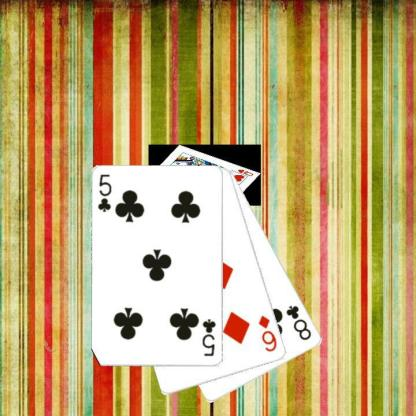5C: (200, 316, 217, 358), (96, 172, 113, 214)
6D: (256, 312, 278, 354)
8C: (284, 303, 313, 342)
